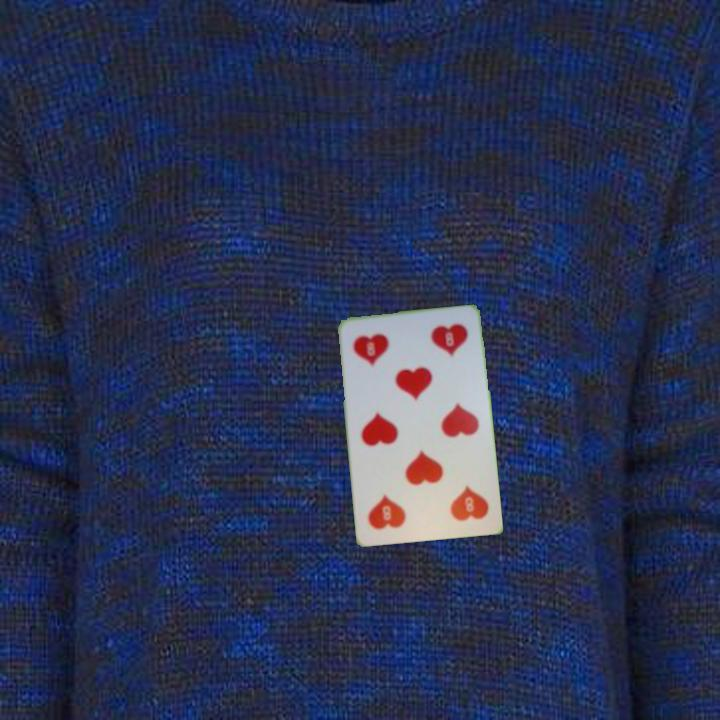h_8.png: (345, 320, 417, 383), (421, 467, 492, 530)
